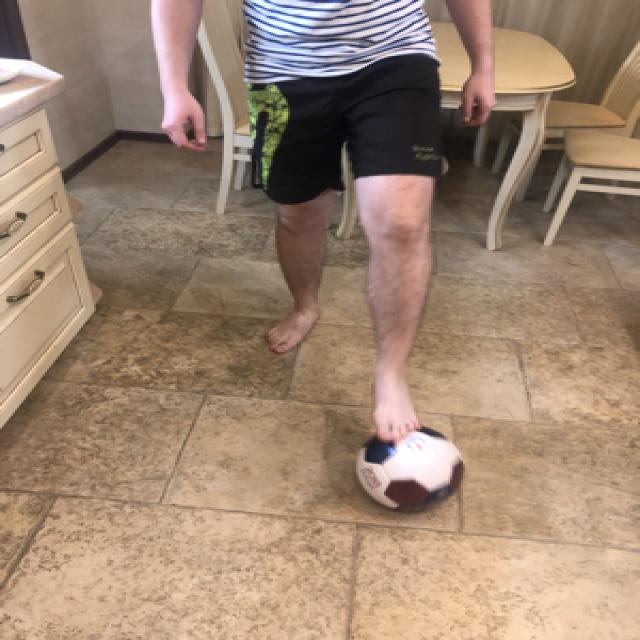soccer_ball: (350, 418, 465, 510)
